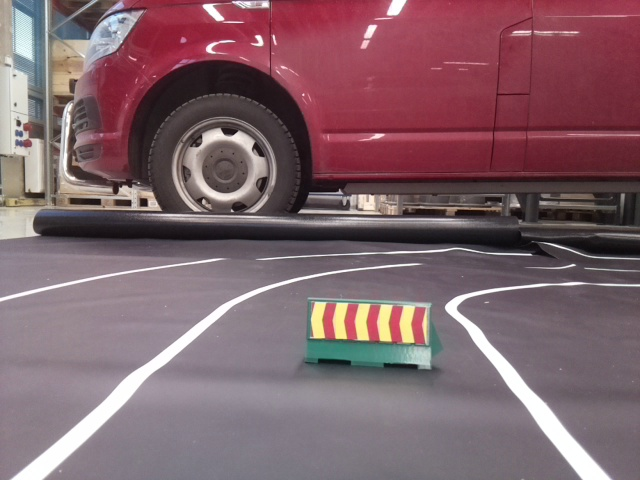ClosedRoadStand: (303, 297, 431, 366)
